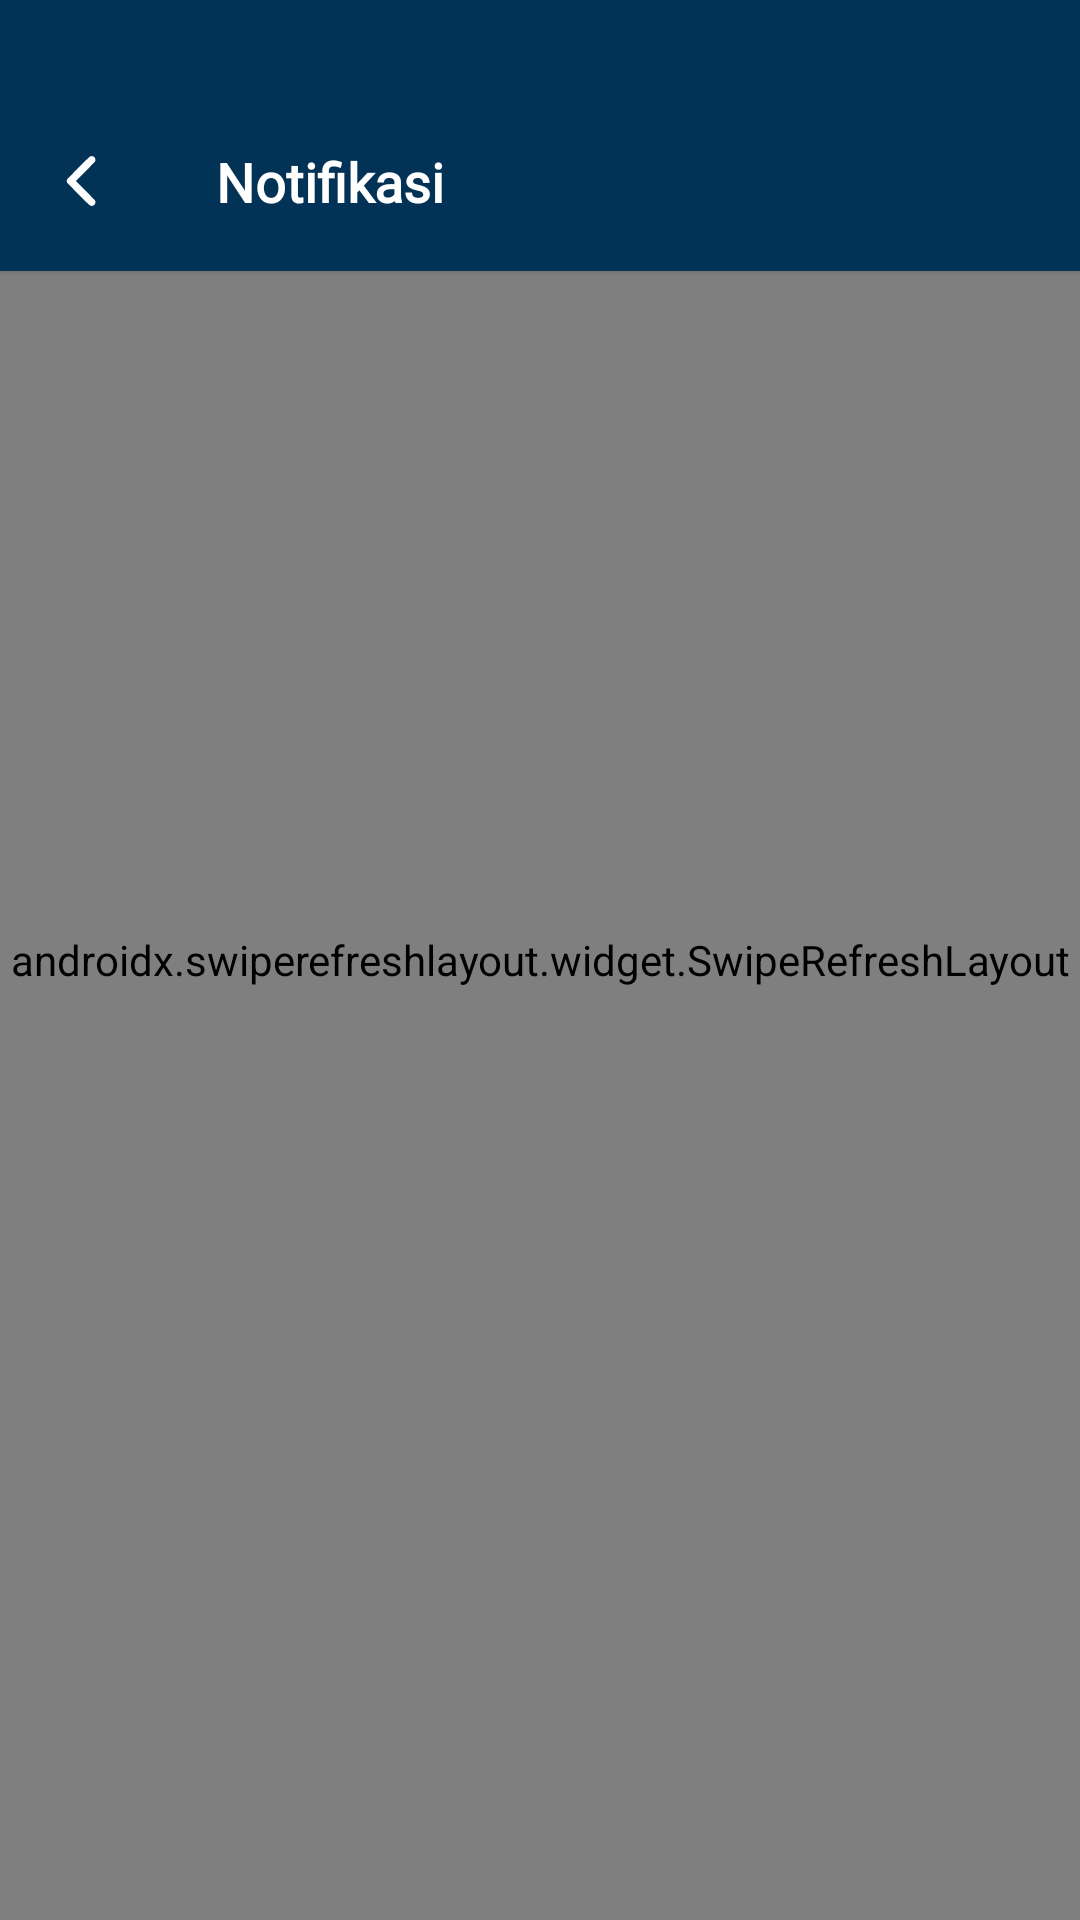

Named icons in this screenshot (1080w x 1920h) and their centers, (x,y):
Tombol Kembali: (81,181)
